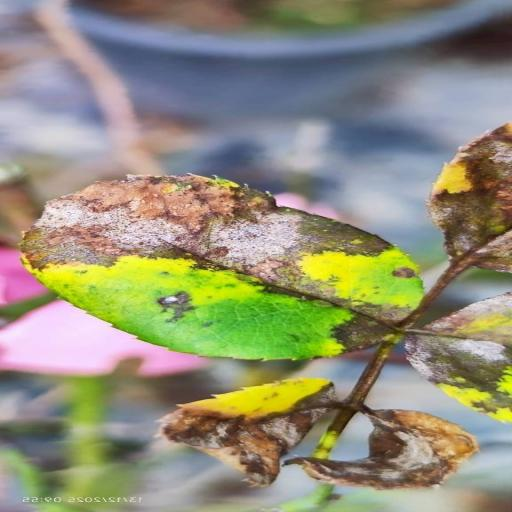thrip: (21, 175, 421, 360), (160, 378, 336, 486), (284, 409, 477, 489), (405, 293, 511, 421), (428, 123, 511, 272)
